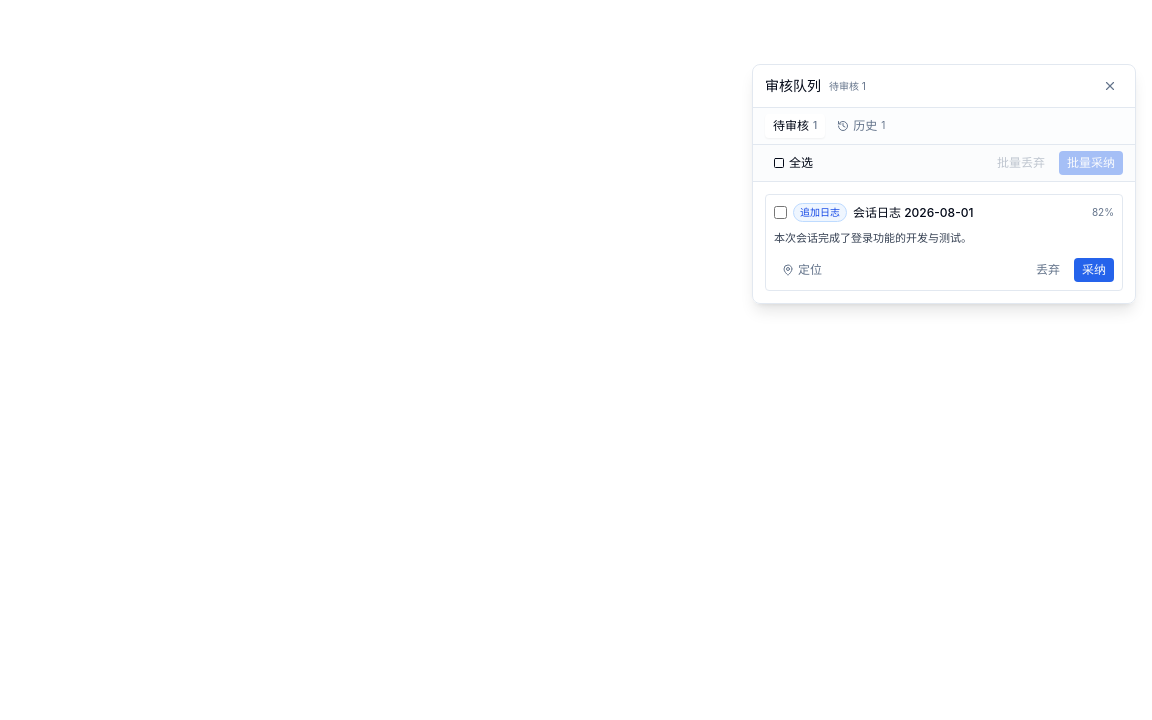
Test: WritebackPanel — History rollback › accept/discard buttons are NOT shown on history tab
Click the tab with test id "tab-history": (861, 126) [829, 114, 893, 138]
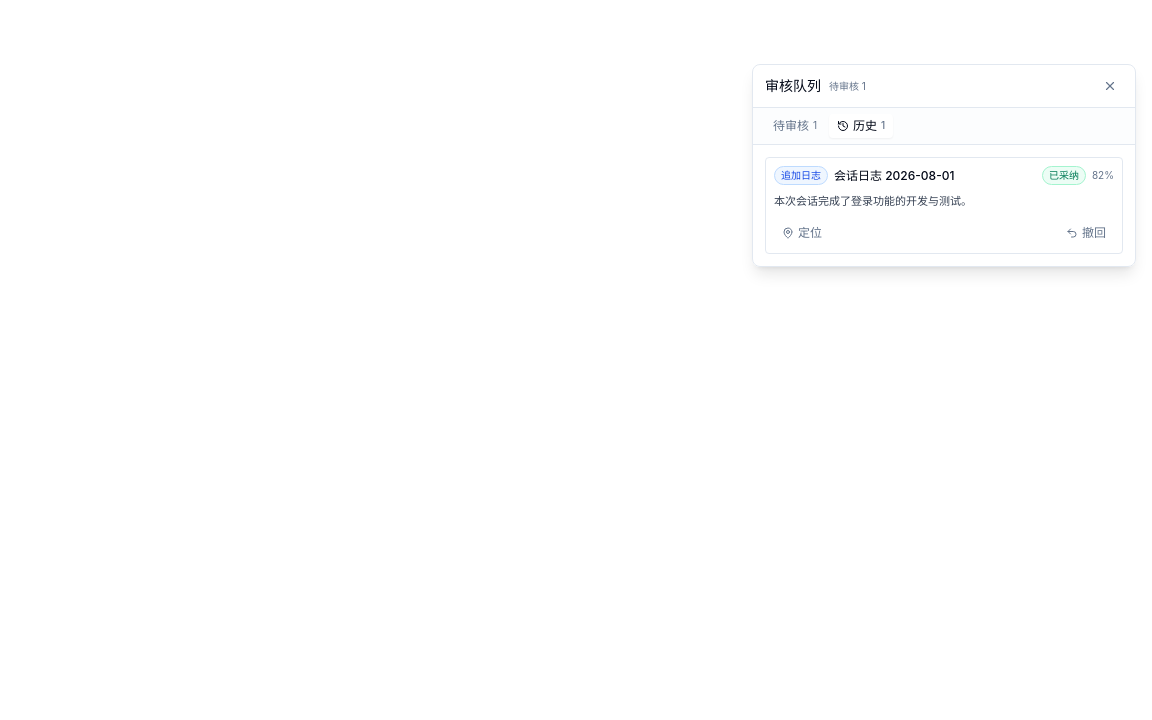
Expected: the button "丢弃" is gone
Expected: the button "批量采纳" is gone
